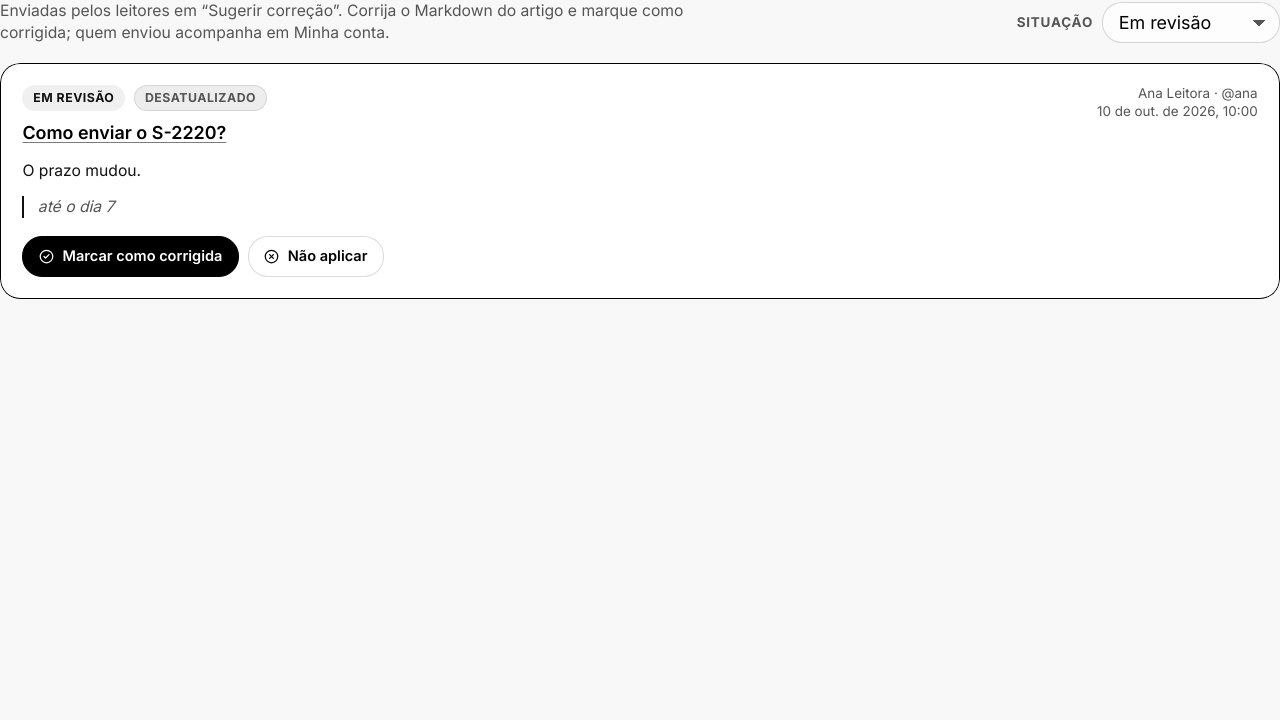
Test: fila de sugestões de correção › lista com autor e trecho; marcar como corrigida pede confirmação e sai da fila
Expected: the link "Como enviar o S-2220?" is shown, [22, 120, 226, 147]
Expected: the text "Ana Leitora · @ana10 de out. de 2026, 10:00" is shown, [1097, 85, 1258, 121]
Click the button "Marcar como corrigida" at (131, 257), box [22, 236, 239, 277]
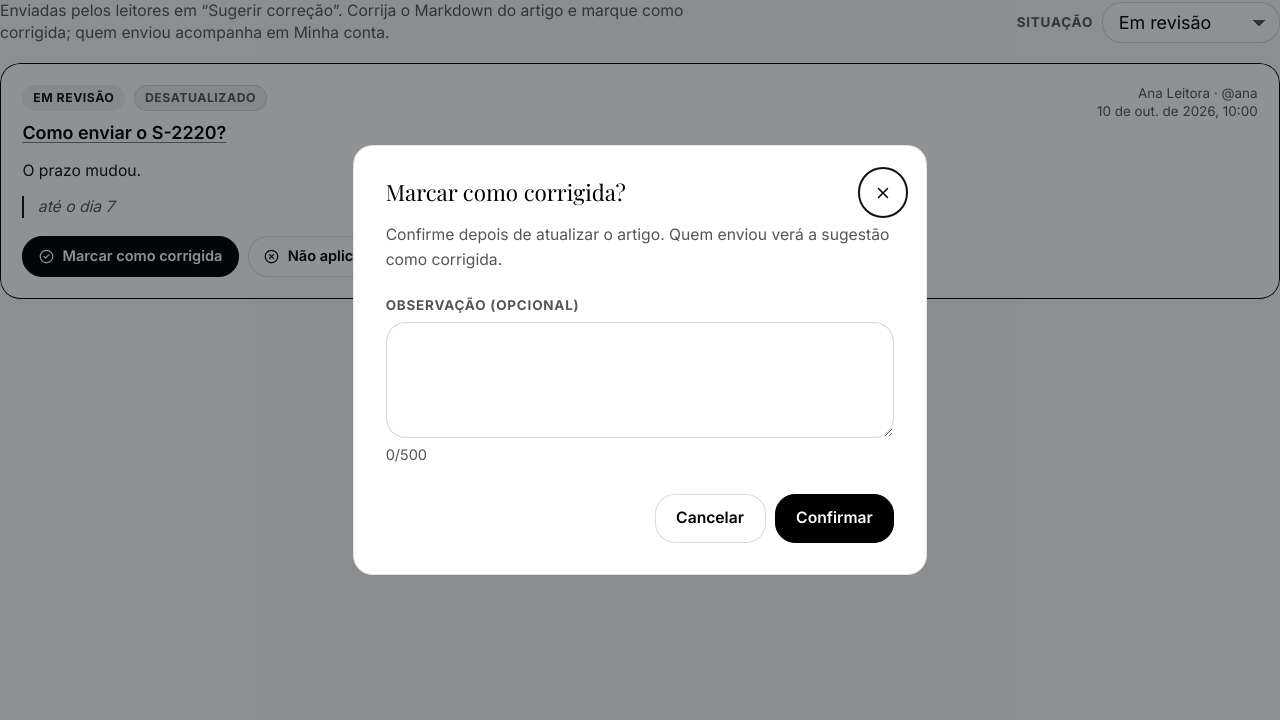
Type "Atualizado." into the text box labelled "Observação (opcional)" at (640, 380), box [386, 322, 894, 438]
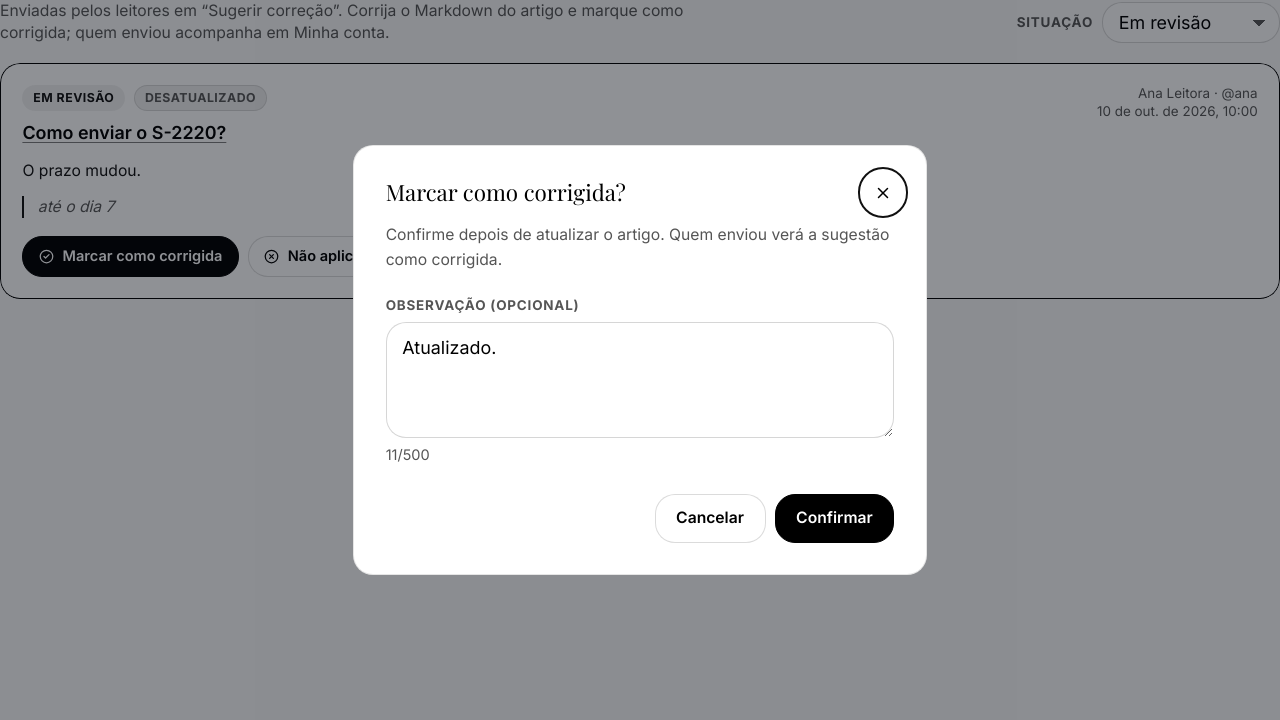
Click the button "Confirmar" at (834, 518), box [774, 494, 894, 543]
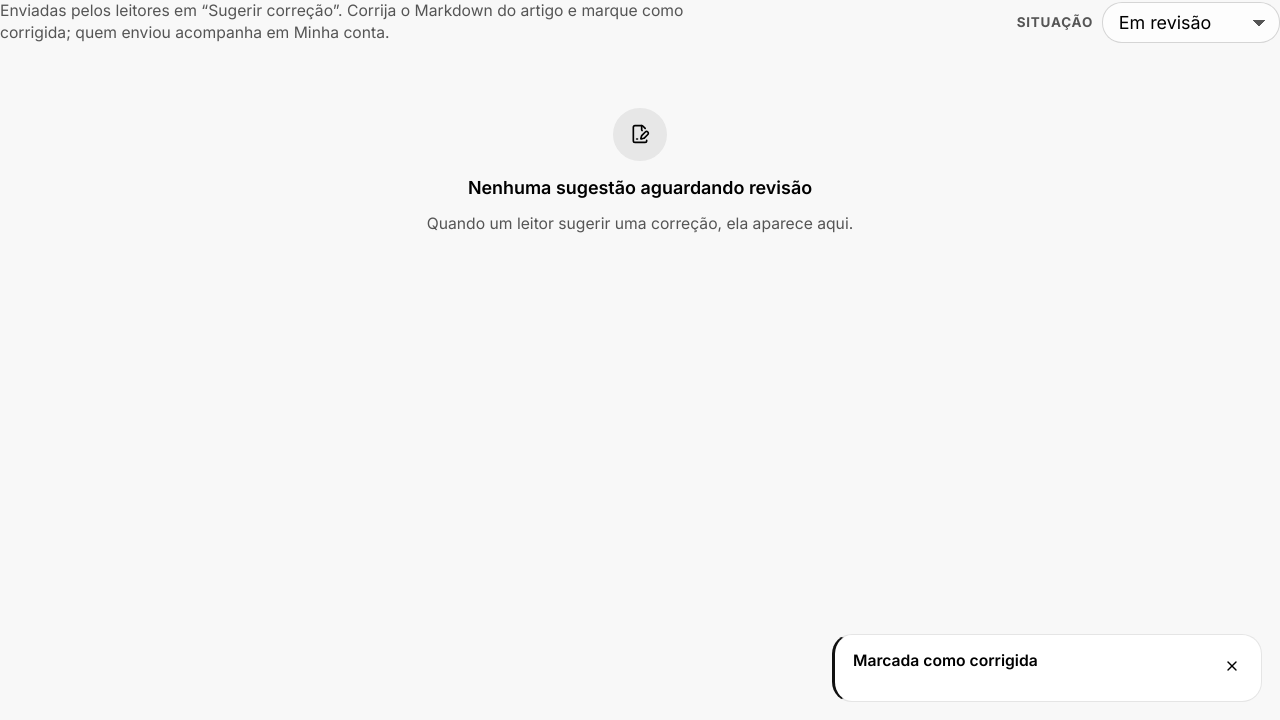
Expected: the link "Como enviar o S-2220?" is gone
Expected: the text "Nenhuma sugestão aguardando revisão" is shown, [468, 175, 812, 202]
